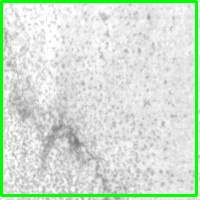pitted_surface: (1, 1, 196, 195)
